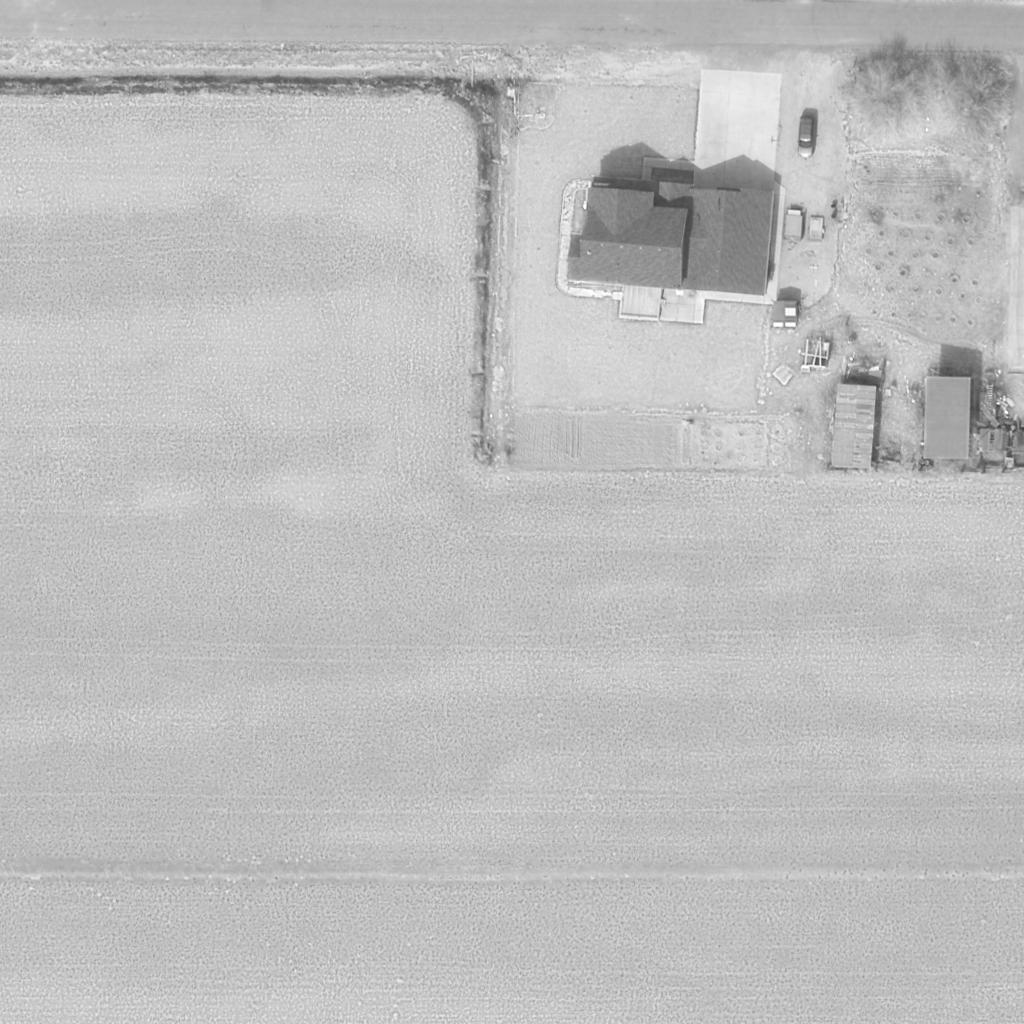vehicle: (798, 116, 816, 160)
